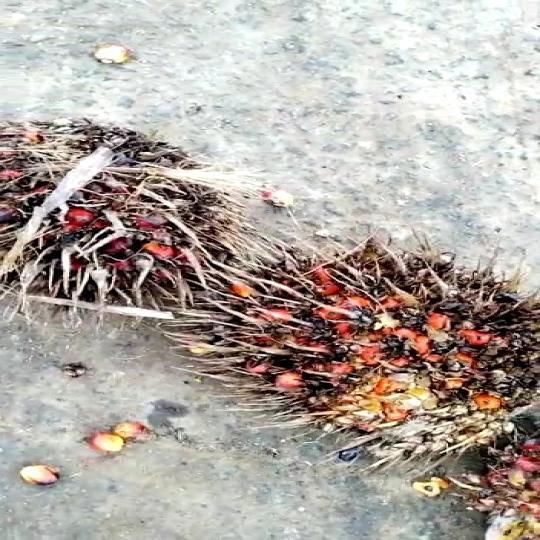terlalu masak: (182, 237, 540, 461), (0, 132, 207, 334)
